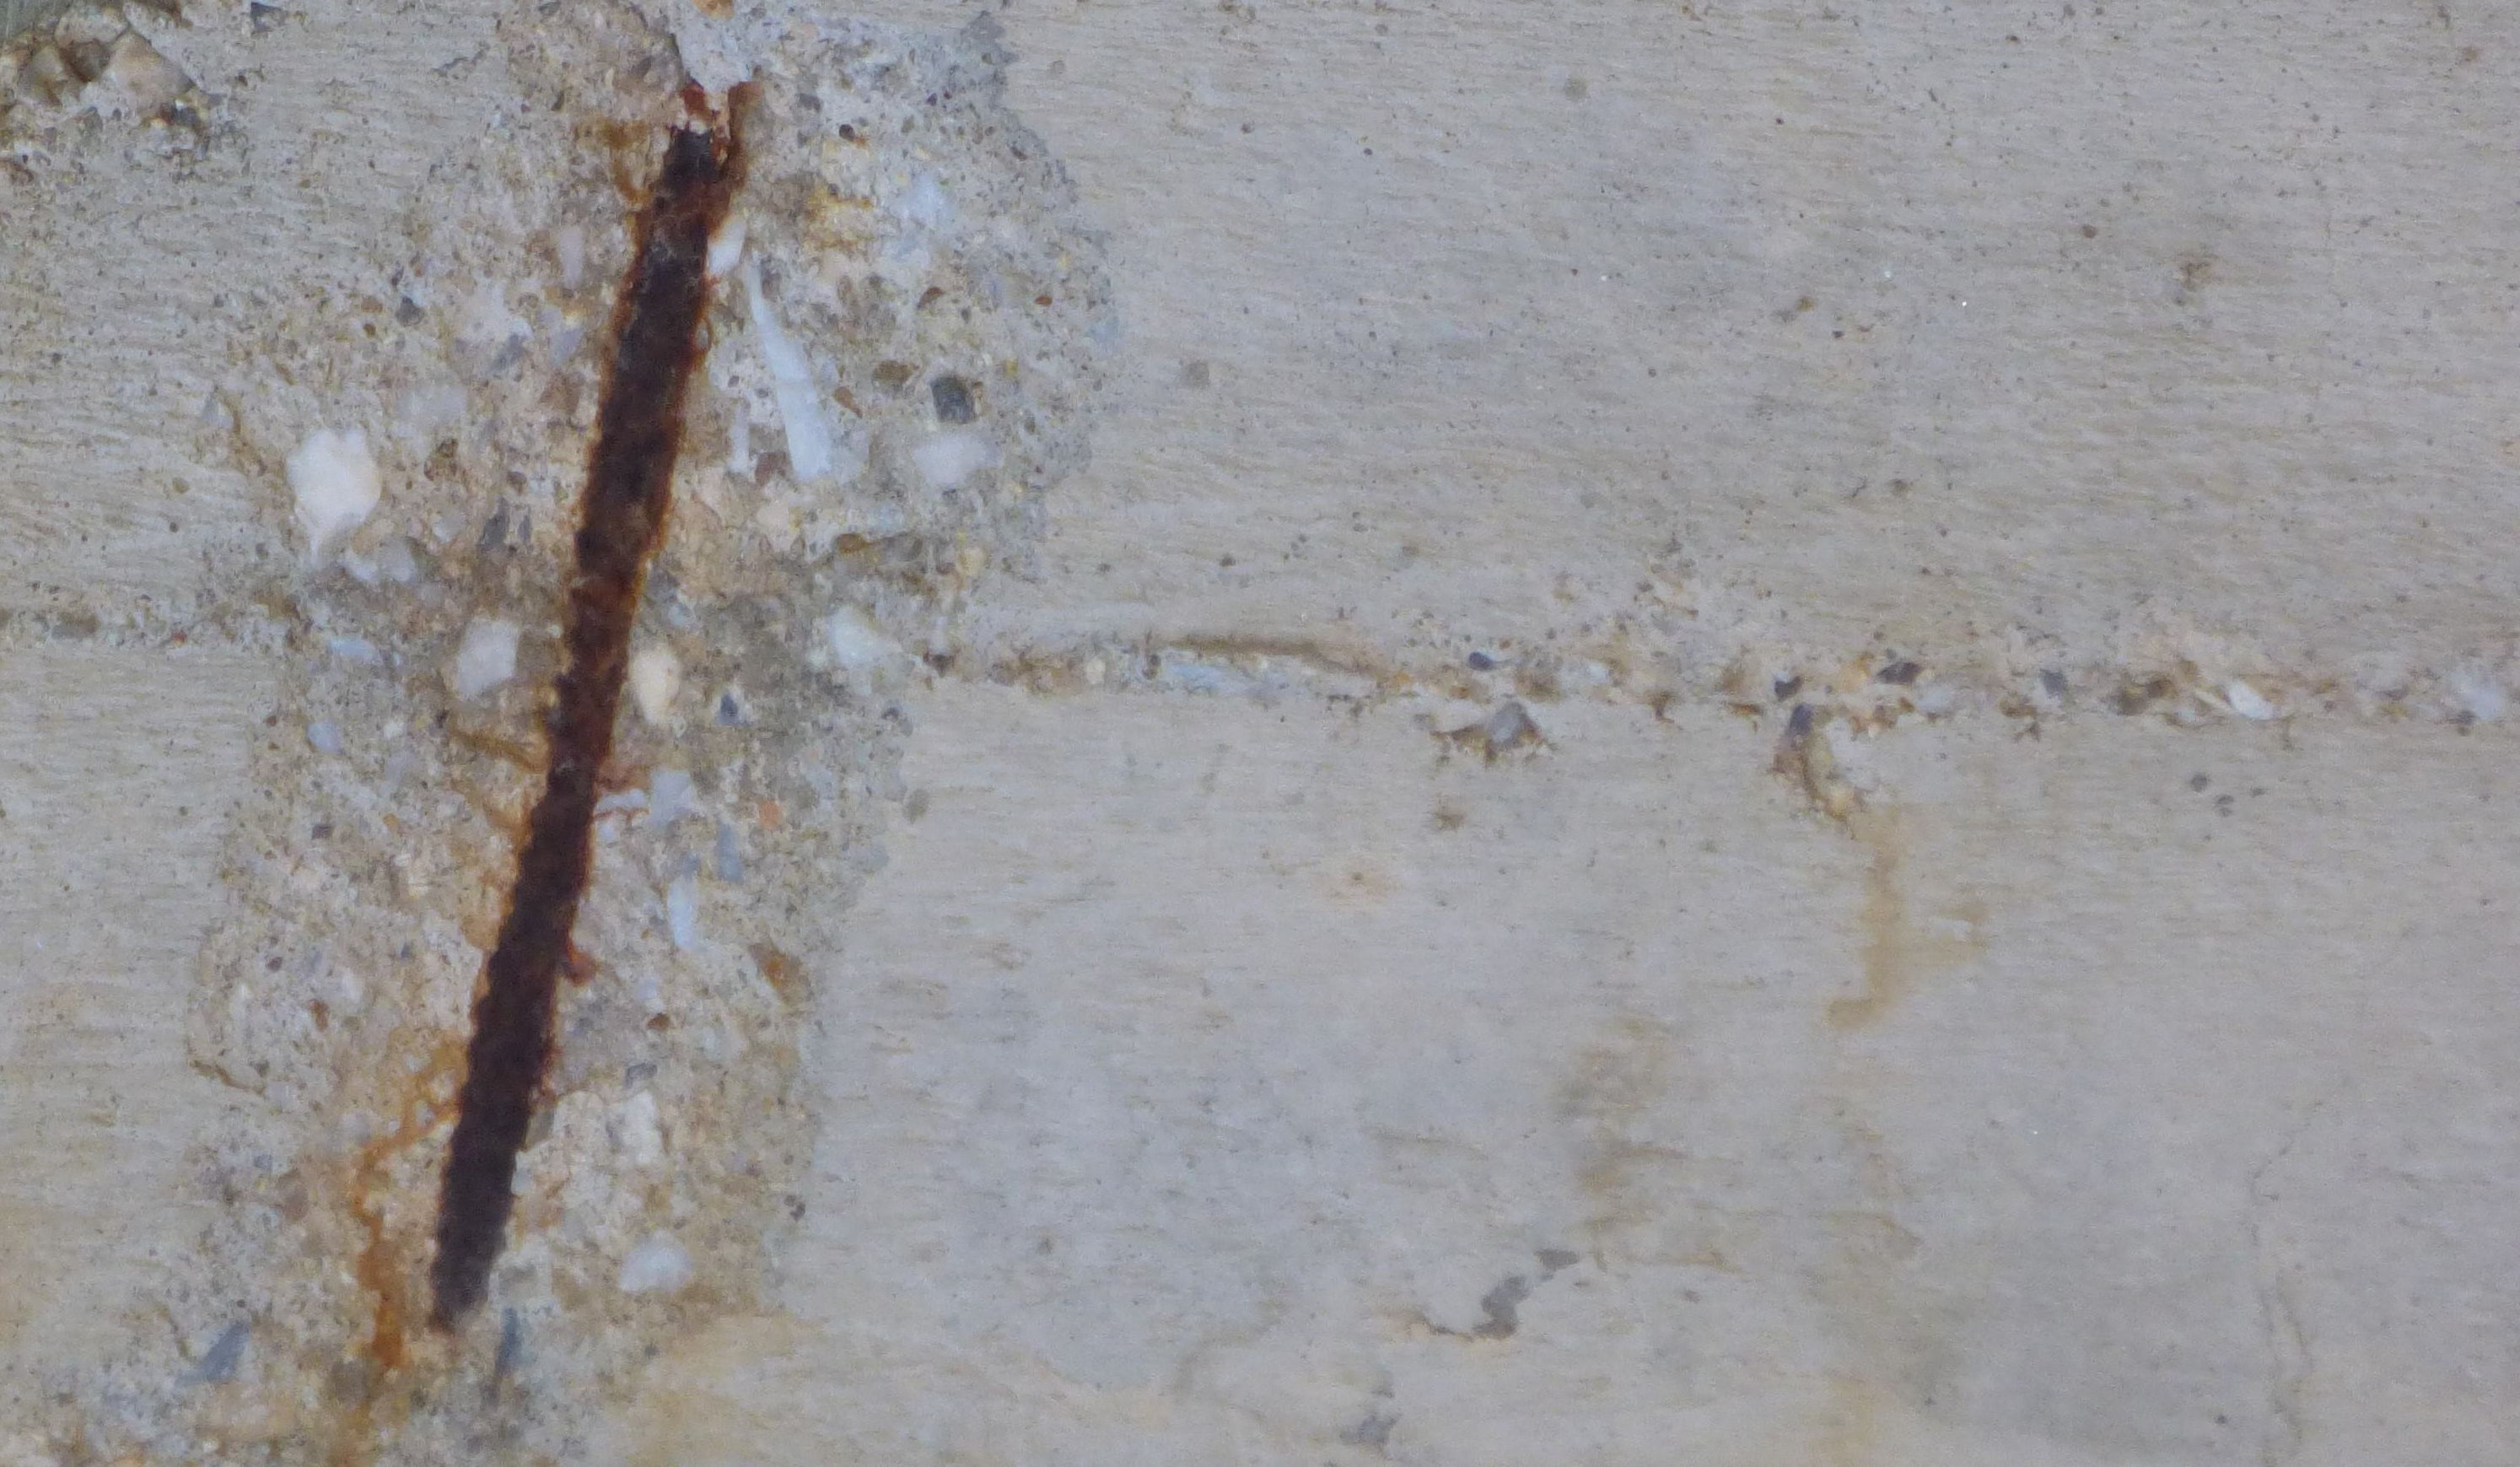Exposed reinforcement: (428, 124, 728, 1338)
Spalling: (180, 0, 1122, 1467)
